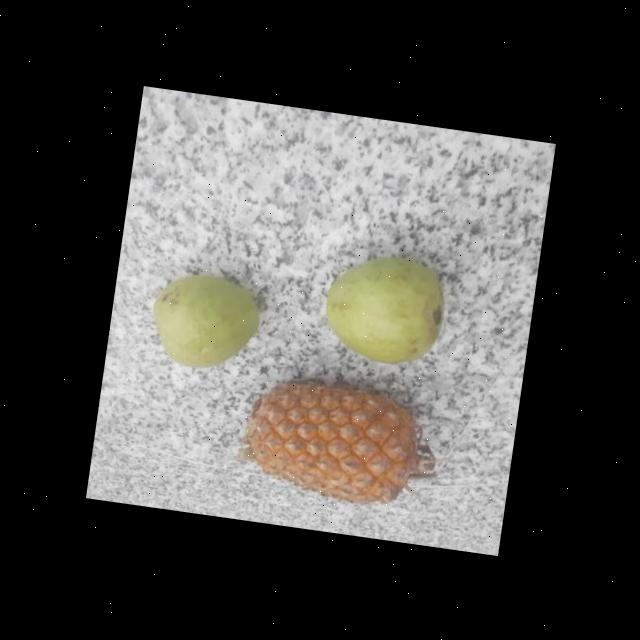guava: (319, 252, 456, 368), (146, 268, 268, 372)
pineapple: (237, 368, 434, 512)
